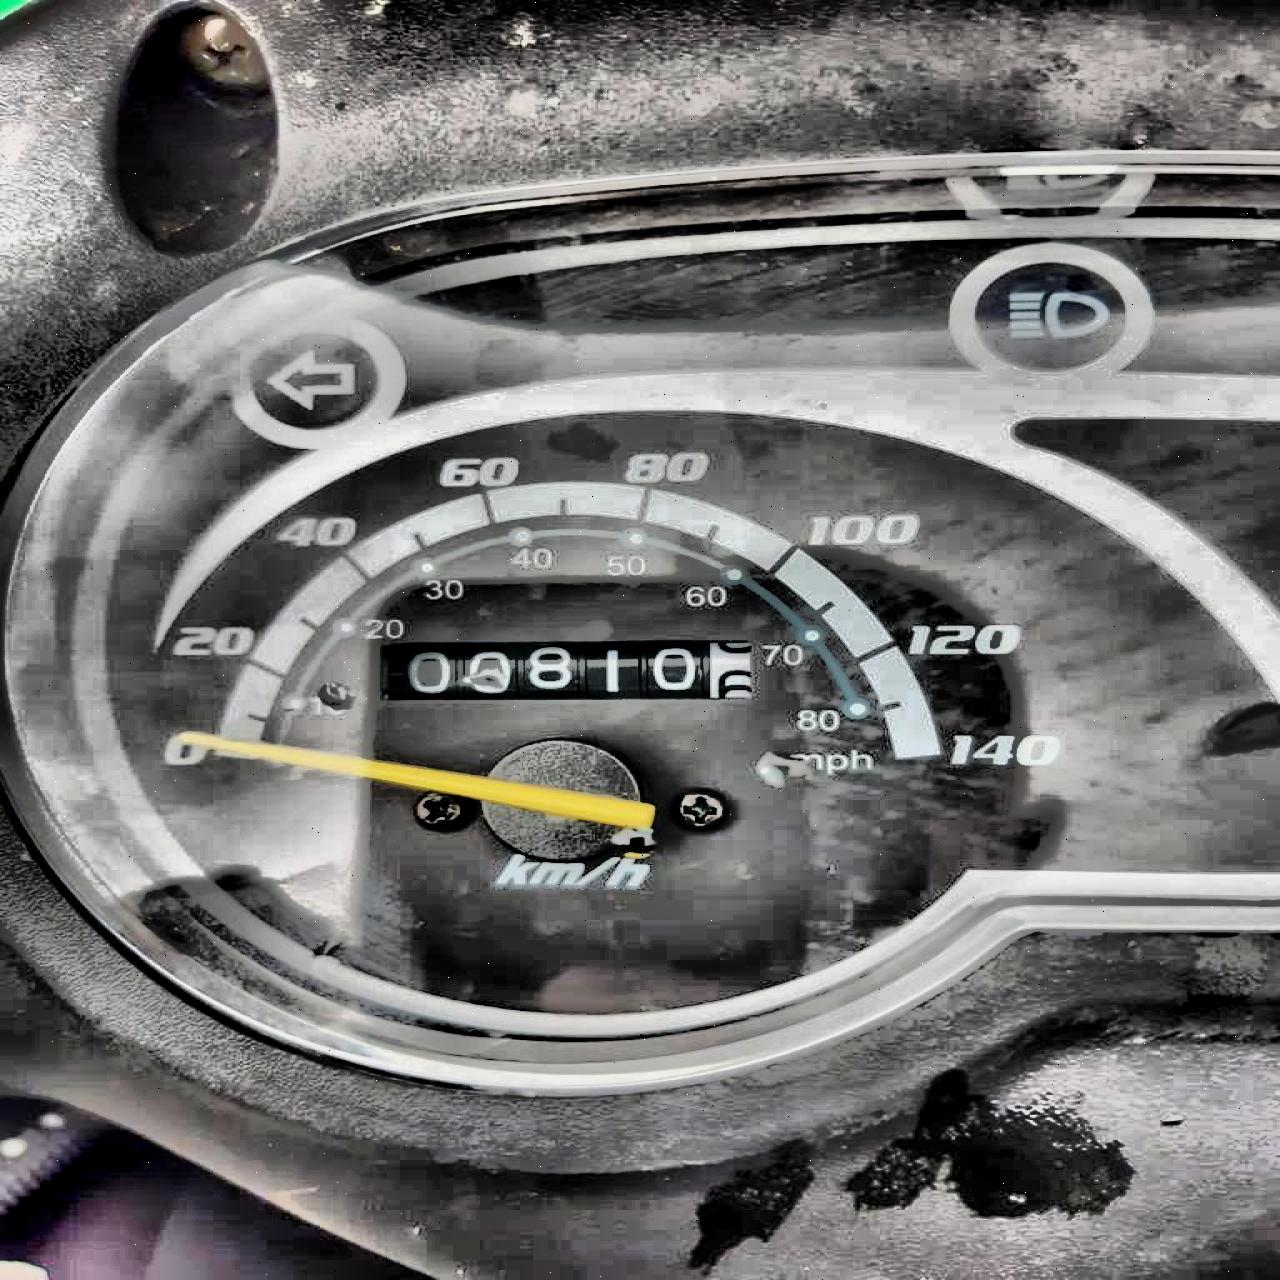0: (648, 645, 699, 693), (406, 648, 451, 696), (462, 648, 510, 693)
1: (601, 647, 621, 697)
6: (712, 665, 756, 701)
8: (525, 642, 573, 689)
odometer: (360, 636, 775, 709)
